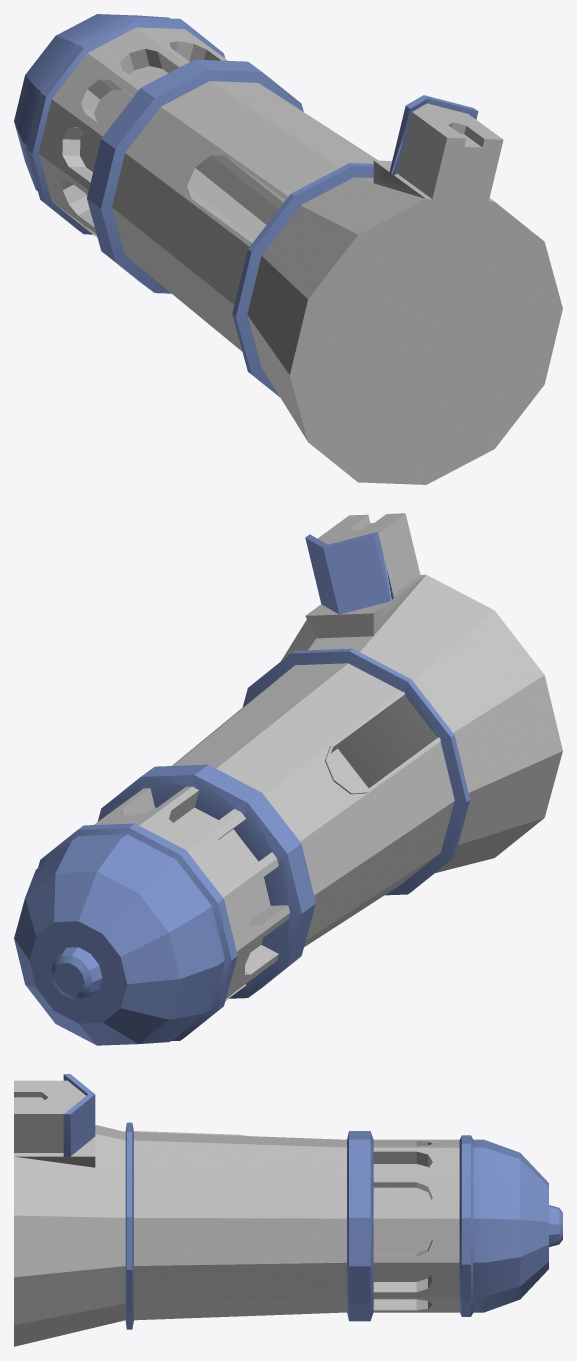
The model's file is blue_symbol_bluehouse.FBX.
3 views of the same model, one above another, from view 1: azimuth 30°, elevation 25°; view 2: azimuth 150°, elevation 25°; view 3: azimuth 270°, elevation 25° (orthographic). The views are drawn at different scales.
Parts seen in each view (by area): view 1: building_1.001; view 2: building_1.001; view 3: building_1.001.
Part boxes in pixels (bbox=[...]): building_1.001: bbox=[14, 14, 562, 484]; building_1.001: bbox=[14, 513, 562, 1045]; building_1.001: bbox=[14, 1074, 562, 1346].
Bounding box in the file's own units: 183 × 223 × 415.
